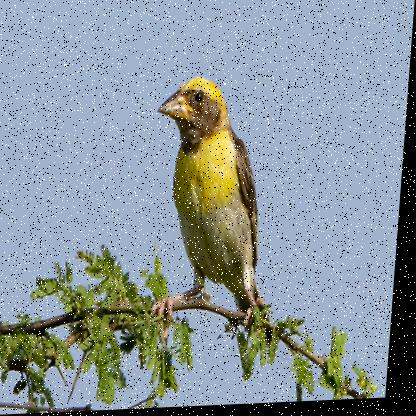Burung: (146, 74, 293, 347)
